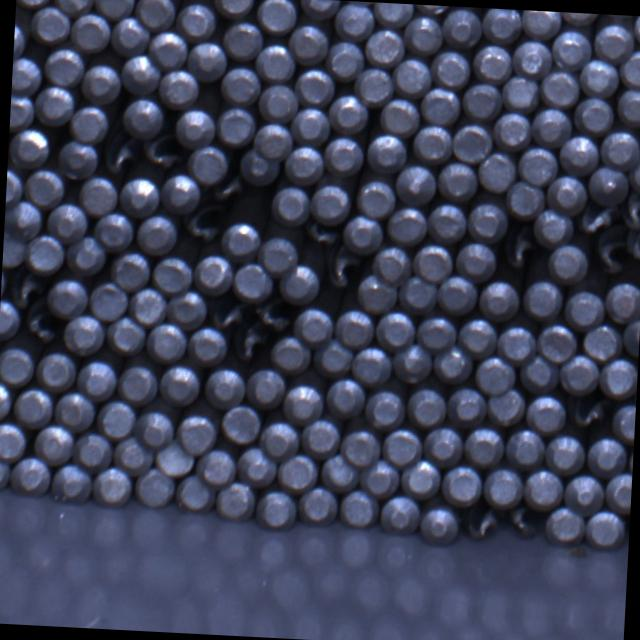tool: (157, 362, 201, 406), (482, 466, 524, 510), (46, 277, 90, 319), (35, 84, 77, 127), (206, 365, 248, 408), (441, 462, 483, 505), (63, 313, 105, 356), (236, 444, 279, 486), (112, 433, 155, 475), (166, 288, 209, 330), (173, 106, 216, 148), (550, 29, 592, 72), (120, 175, 162, 218), (136, 213, 178, 256), (8, 127, 51, 169), (123, 98, 166, 140), (396, 163, 438, 206), (12, 386, 54, 428), (559, 352, 601, 394), (452, 122, 494, 164), (543, 434, 585, 476), (116, 362, 158, 404), (350, 344, 392, 386), (393, 343, 435, 385), (177, 414, 219, 456), (282, 381, 324, 423), (31, 5, 73, 47), (400, 460, 442, 502), (406, 386, 448, 428), (9, 456, 51, 498), (464, 425, 506, 467), (160, 172, 202, 214), (522, 278, 564, 320), (458, 316, 500, 358), (278, 262, 320, 304), (119, 54, 161, 96), (558, 134, 600, 176), (530, 106, 572, 148), (548, 242, 590, 284), (478, 279, 520, 321), (563, 472, 605, 514), (523, 469, 564, 512), (78, 358, 119, 401), (193, 253, 234, 296), (255, 488, 298, 529), (323, 134, 364, 177), (88, 280, 130, 321), (34, 424, 75, 466), (246, 366, 287, 408), (46, 202, 88, 243), (24, 168, 66, 209), (537, 323, 579, 364), (466, 202, 507, 244), (56, 390, 98, 431), (327, 376, 368, 418), (288, 22, 329, 64), (427, 202, 468, 244), (270, 334, 312, 375), (258, 421, 300, 462), (312, 184, 354, 225), (368, 133, 409, 175), (584, 509, 626, 550), (438, 162, 479, 204), (94, 211, 136, 252), (234, 262, 275, 303), (442, 7, 483, 48), (365, 387, 406, 428), (381, 427, 422, 468), (153, 254, 194, 295), (111, 16, 152, 57), (215, 482, 256, 523), (343, 215, 384, 256), (421, 506, 462, 547), (358, 272, 399, 313), (436, 274, 478, 314), (74, 432, 116, 472), (24, 232, 66, 272), (106, 317, 148, 357), (340, 428, 382, 468), (594, 22, 636, 62), (518, 146, 560, 186), (477, 150, 517, 192), (294, 306, 336, 346), (196, 448, 238, 488), (526, 394, 568, 434), (598, 356, 638, 398), (217, 106, 257, 148), (564, 288, 606, 328), (272, 186, 312, 228), (52, 464, 94, 504), (588, 436, 630, 476), (148, 322, 188, 363), (302, 419, 342, 460), (412, 244, 453, 284), (72, 12, 113, 52), (321, 453, 362, 493), (222, 403, 262, 444), (36, 351, 76, 392), (112, 250, 153, 290), (134, 467, 174, 508), (492, 110, 532, 151), (359, 458, 400, 498), (387, 206, 428, 246), (456, 241, 496, 282), (160, 69, 201, 109), (546, 174, 587, 214), (394, 57, 434, 98), (424, 427, 464, 468), (382, 494, 422, 535), (66, 234, 106, 275), (600, 130, 640, 171), (299, 485, 340, 525), (312, 338, 353, 378), (82, 60, 122, 101), (589, 166, 630, 206), (518, 354, 559, 394), (154, 438, 196, 477), (190, 143, 232, 182), (473, 42, 513, 82), (96, 400, 136, 440), (46, 48, 86, 88), (336, 308, 376, 348), (284, 144, 324, 184), (476, 354, 516, 394), (278, 452, 318, 492), (376, 310, 416, 350), (546, 504, 586, 544), (80, 176, 120, 216), (340, 488, 380, 528), (93, 466, 133, 506), (414, 124, 454, 164), (505, 426, 545, 466), (355, 178, 395, 218), (188, 325, 228, 365), (222, 220, 262, 260), (513, 40, 553, 80), (330, 94, 370, 134), (398, 274, 438, 314), (188, 41, 228, 81), (223, 20, 263, 60), (134, 409, 175, 448), (421, 87, 462, 126), (415, 313, 457, 351), (498, 324, 538, 363), (582, 322, 622, 361), (447, 387, 487, 426), (486, 388, 526, 427), (432, 48, 471, 88), (178, 2, 218, 41), (220, 66, 260, 105), (432, 345, 472, 384), (373, 246, 412, 286), (580, 58, 619, 98), (294, 67, 334, 106), (176, 473, 216, 512), (354, 66, 393, 105), (71, 105, 110, 144), (337, 1, 376, 40), (405, 15, 444, 54), (574, 98, 614, 136), (128, 286, 166, 326), (366, 28, 404, 68), (462, 81, 502, 119), (260, 236, 300, 274), (381, 96, 421, 134), (506, 180, 546, 218), (328, 39, 366, 79), (534, 208, 574, 246), (540, 70, 580, 108), (6, 199, 44, 239), (256, 44, 296, 82), (605, 280, 640, 323), (501, 74, 540, 112), (259, 84, 298, 122), (291, 105, 330, 143), (150, 31, 190, 68), (240, 150, 280, 187), (61, 144, 101, 180), (254, 123, 293, 159), (0, 345, 34, 385), (482, 8, 522, 42), (257, 0, 297, 32), (522, 10, 562, 40), (135, 0, 176, 29), (604, 472, 632, 514), (12, 58, 42, 96), (0, 421, 27, 461), (612, 403, 636, 445), (10, 93, 36, 131), (374, 2, 414, 26), (2, 231, 26, 269), (617, 88, 640, 127), (0, 300, 21, 342), (96, 0, 138, 20), (620, 48, 640, 88), (621, 316, 640, 357), (5, 169, 24, 208), (299, 0, 341, 16), (54, 0, 95, 15), (213, 0, 254, 15), (0, 378, 13, 422), (560, 12, 601, 25), (14, 18, 26, 62), (630, 151, 640, 193), (0, 452, 11, 490), (633, 16, 640, 47), (16, 0, 55, 5)
tool_b: (590, 230, 630, 278), (183, 204, 224, 247), (18, 306, 59, 348), (229, 325, 270, 366), (321, 248, 359, 292), (502, 228, 536, 274), (102, 136, 140, 176), (140, 134, 180, 172), (502, 504, 544, 540), (461, 508, 501, 544), (5, 273, 44, 309), (570, 394, 608, 430), (575, 203, 613, 237), (256, 300, 294, 334), (302, 217, 342, 246), (210, 172, 245, 205), (208, 300, 244, 330), (620, 195, 640, 231), (626, 224, 640, 262)
